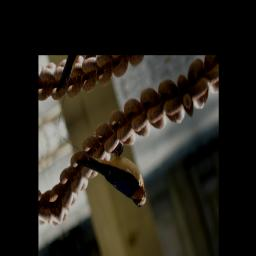Swallow: (59, 96, 150, 242)
